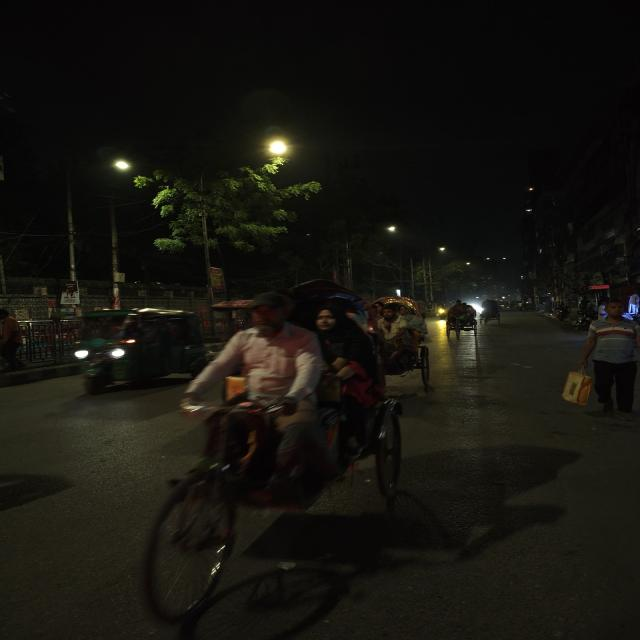cng: (58, 306, 210, 401)
pedestrian: (572, 300, 640, 422)
rickshaw: (132, 286, 421, 634), (360, 295, 430, 383), (443, 298, 478, 342), (478, 297, 503, 328)
